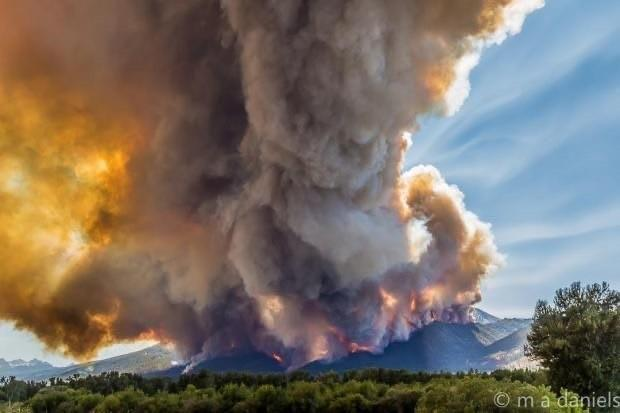smoke: (0, 0, 482, 396)
